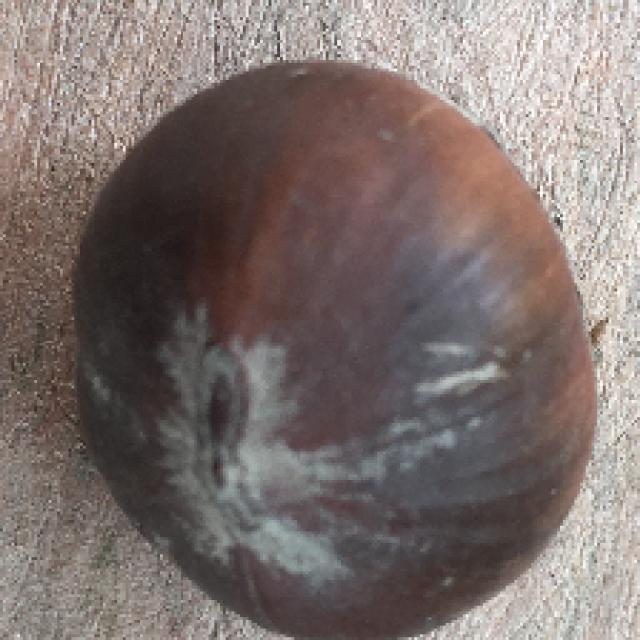DamagedHazelnut: (76, 61, 599, 637)
